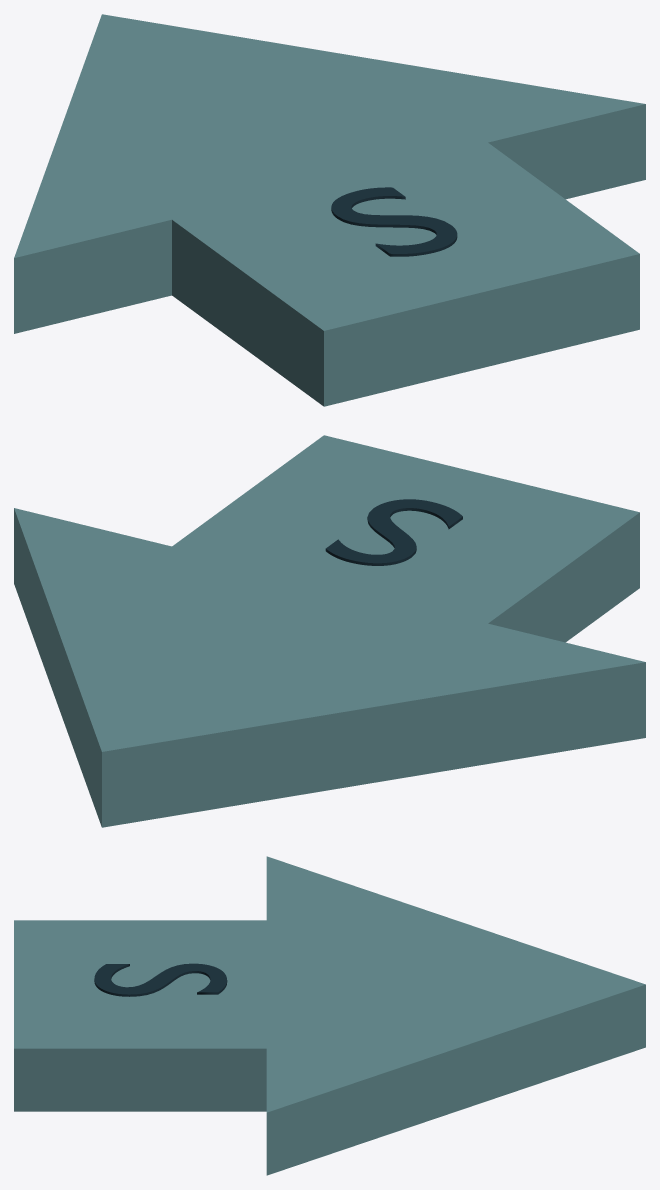
The model's file is marcador_sur.fbx.
The picture shows the model from 3 angles, top to bottom: view 1: azimuth 30°, elevation 25°; view 2: azimuth 150°, elevation 25°; view 3: azimuth 270°, elevation 25°; orthographic projection. The views are drawn at different scales.
Parts seen in each view (by area): view 1: SM_Cardinal_sur, TXT_Cardinal_sur; view 2: SM_Cardinal_sur, TXT_Cardinal_sur; view 3: SM_Cardinal_sur, TXT_Cardinal_sur.
Boxes of the visible parts, bbox=[...] form: SM_Cardinal_sur: bbox=[14, 14, 645, 406]; TXT_Cardinal_sur: bbox=[331, 187, 457, 256]; SM_Cardinal_sur: bbox=[14, 435, 645, 827]; TXT_Cardinal_sur: bbox=[325, 499, 462, 565]; SM_Cardinal_sur: bbox=[14, 856, 645, 1175]; TXT_Cardinal_sur: bbox=[94, 963, 227, 996].
Size of the model in its own units: 0.48 by 0.06 by 0.5.
